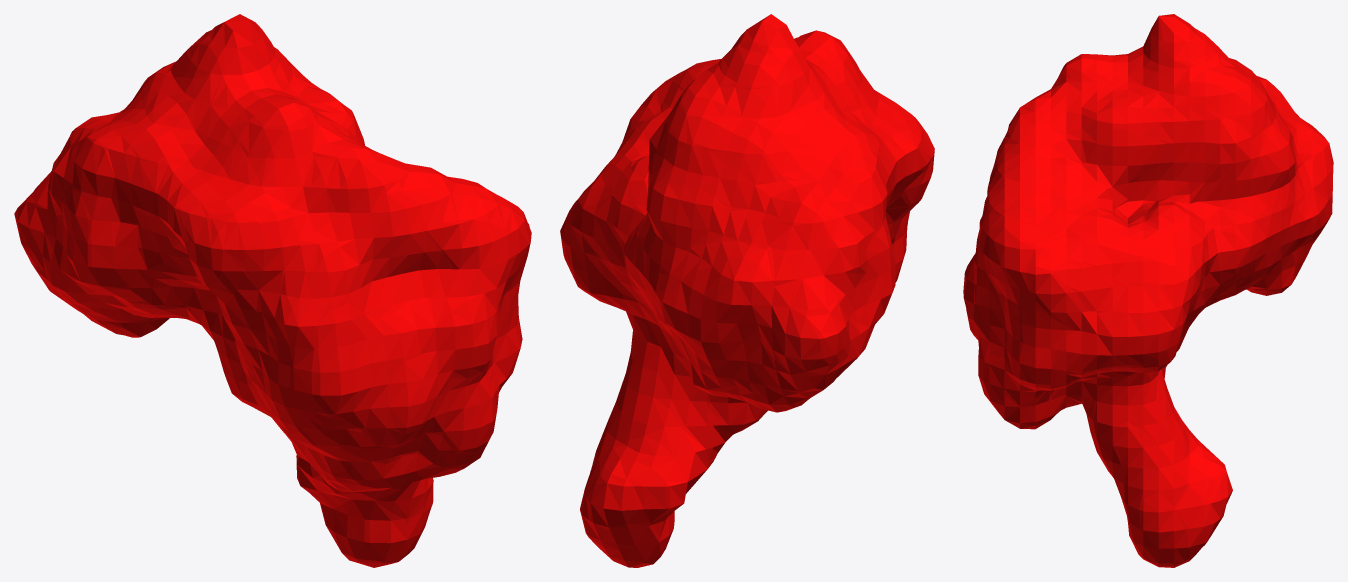
File: aldB_coarse.dae
3 views of the same model, side by side, from view 1: azimuth 30°, elevation 25°; view 2: azimuth 150°, elevation 25°; view 3: azimuth 270°, elevation 25° (orthographic). The views are drawn at different scales.
Parts seen in each view (by area): view 1: aldB; view 2: aldB; view 3: aldB.
Boxes of the visible parts, x1,y1,x2,y2 form: aldB: (14, 14, 531, 567); aldB: (560, 14, 934, 567); aldB: (963, 14, 1333, 567).
Bounding box in the file's own units: 61.04 × 91.9 × 62.34.
